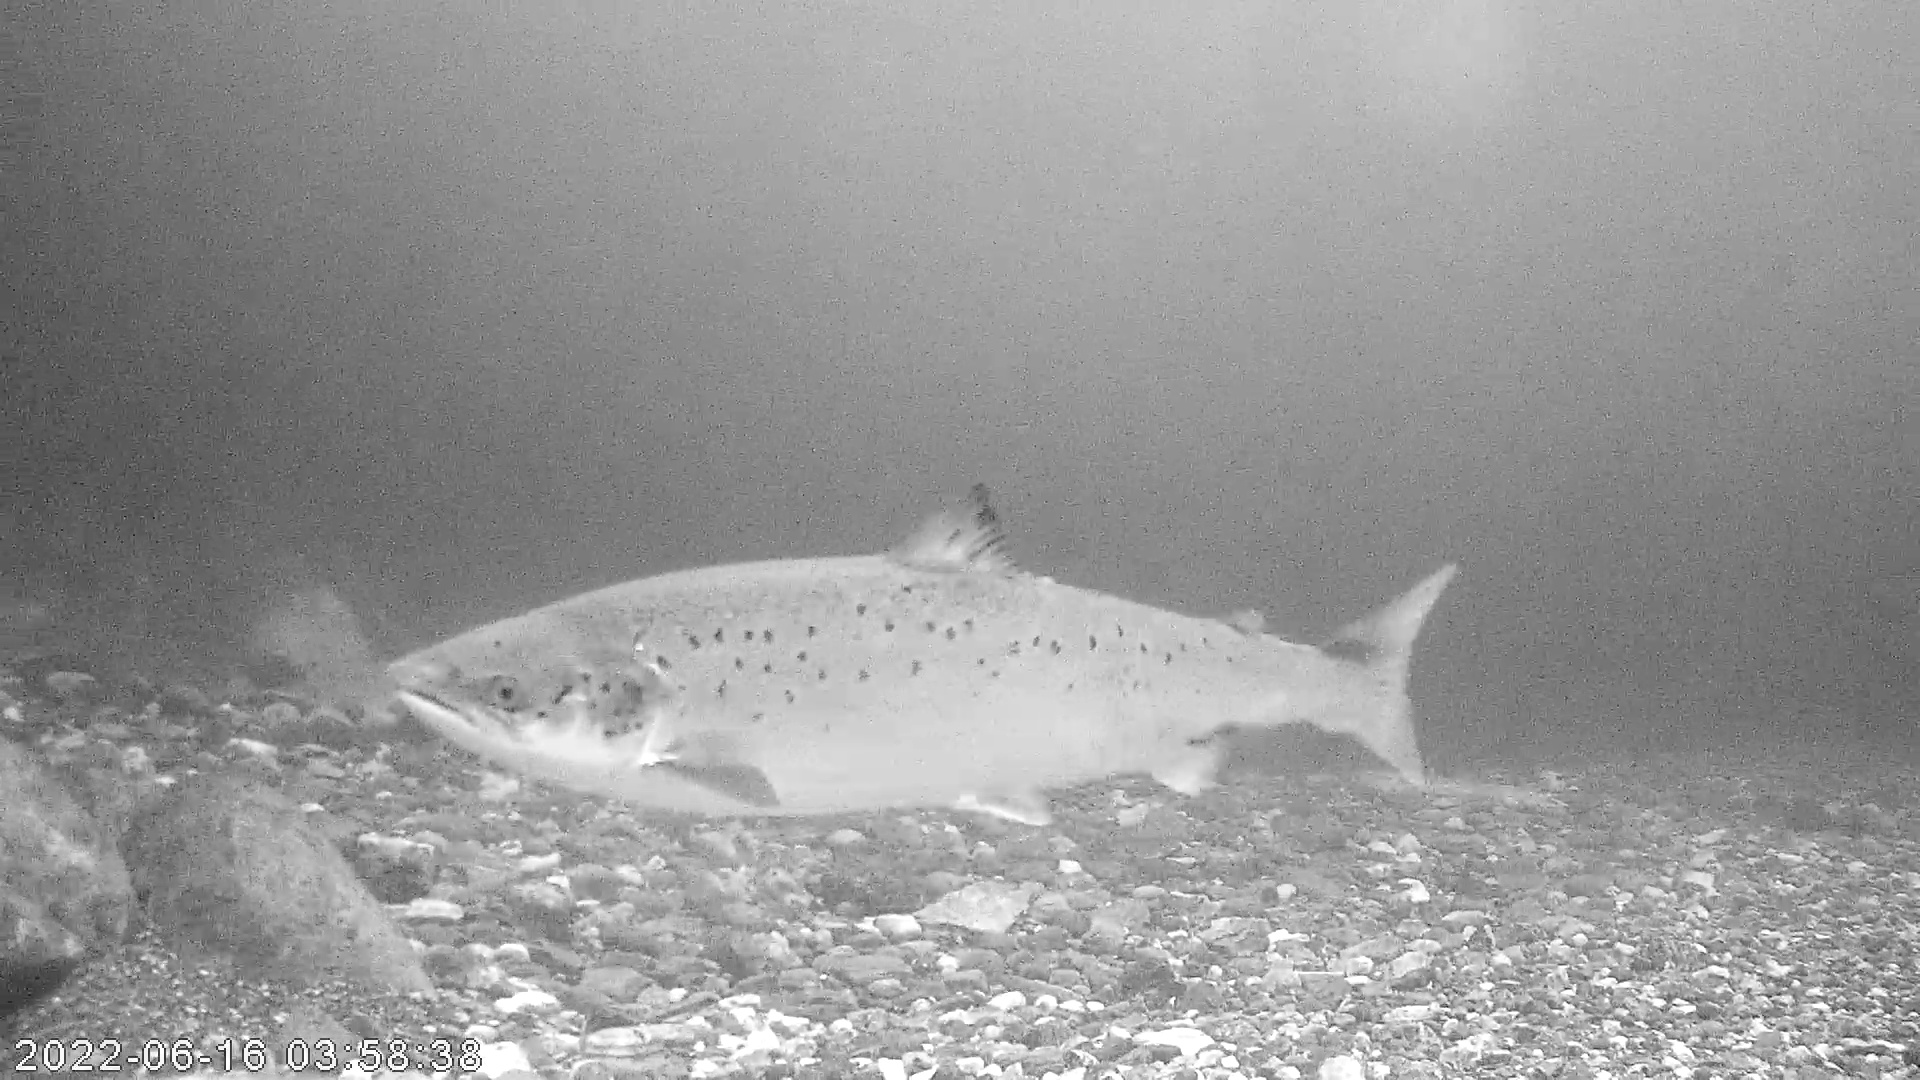salmon: (382, 481, 1466, 832)
